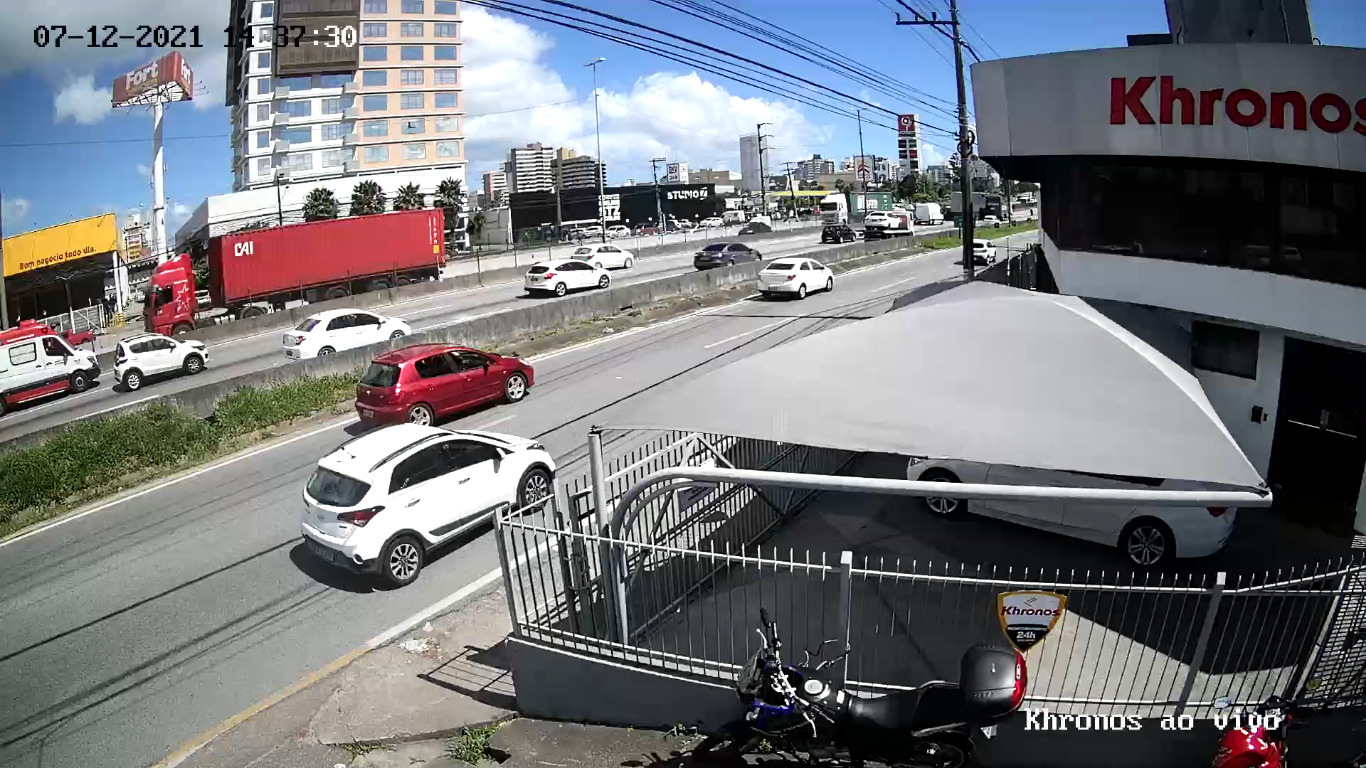car: (301, 422, 557, 586), (356, 343, 534, 428)
